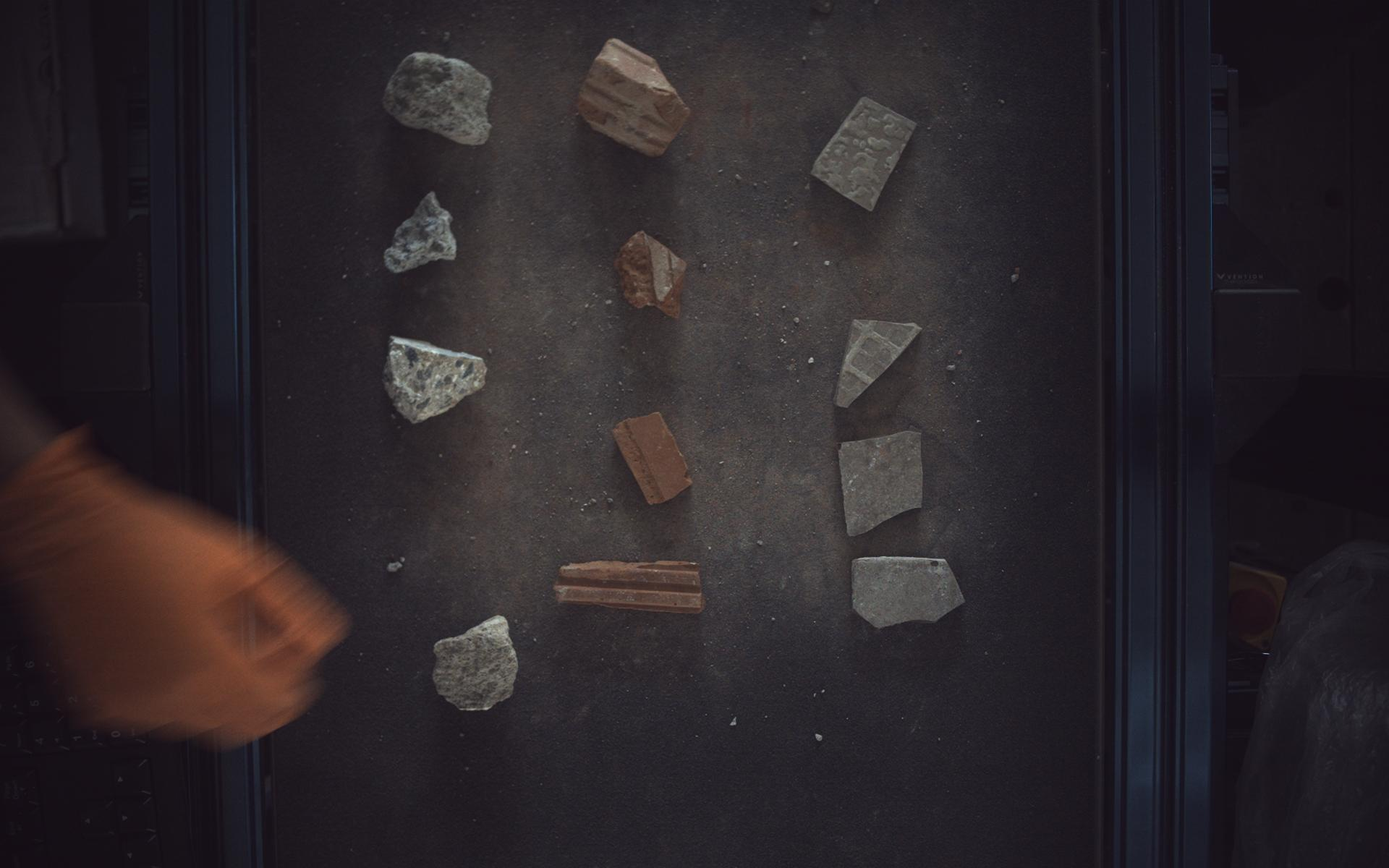brick: (579, 37, 691, 156), (554, 561, 705, 615), (613, 412, 693, 505), (615, 230, 687, 318)
concrete: (383, 51, 492, 144), (383, 336, 487, 424), (433, 616, 518, 712), (384, 190, 456, 273)
tile: (812, 95, 917, 210), (840, 431, 925, 536), (854, 557, 966, 629), (836, 320, 922, 408)
